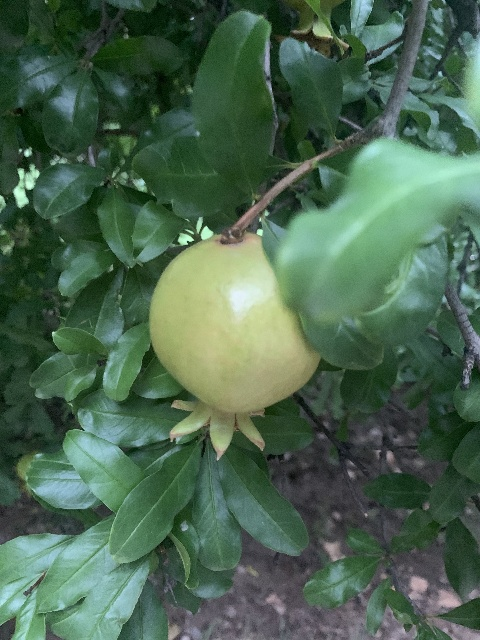mid-growth: (147, 233, 321, 459)
